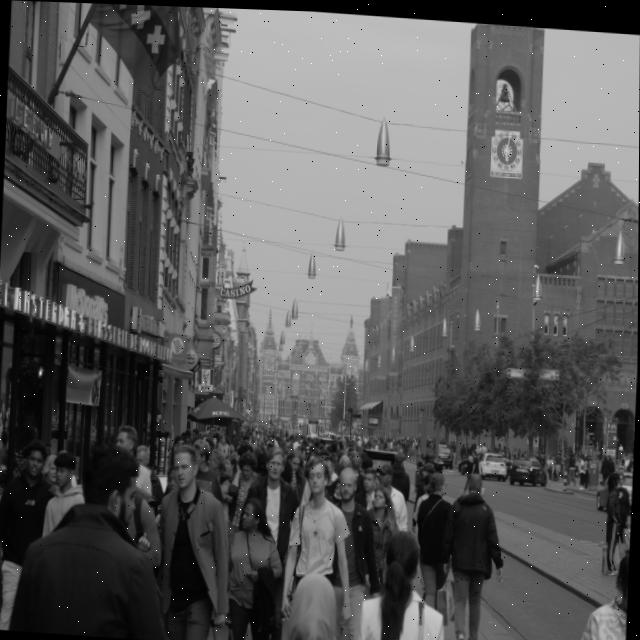building: (361, 15, 640, 469), (0, 0, 266, 452), (252, 307, 366, 438)
